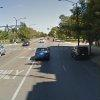Car: (30, 40, 55, 67)
